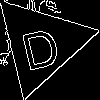D: (16, 18, 63, 71)
